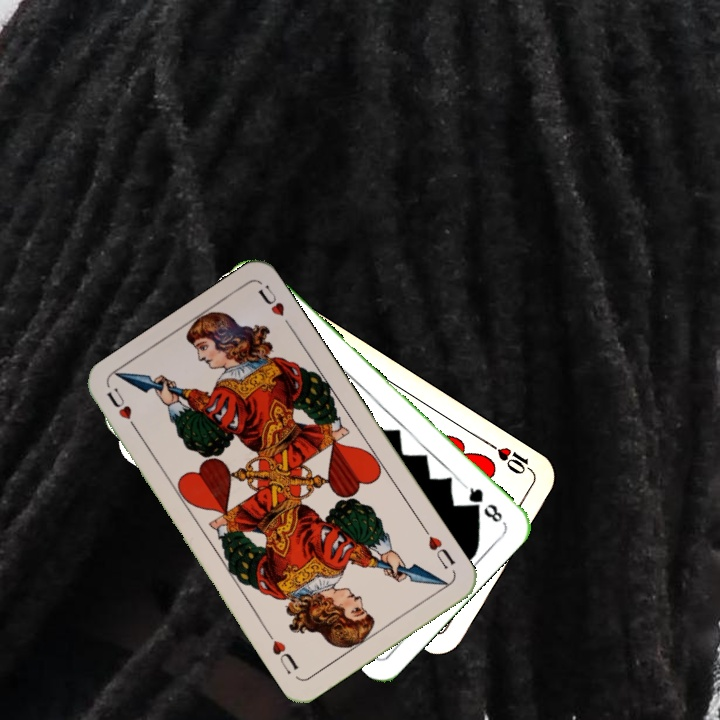G8: (460, 481, 505, 526)
H10: (485, 438, 537, 477)
HU: (102, 383, 143, 437), (419, 523, 458, 572)
